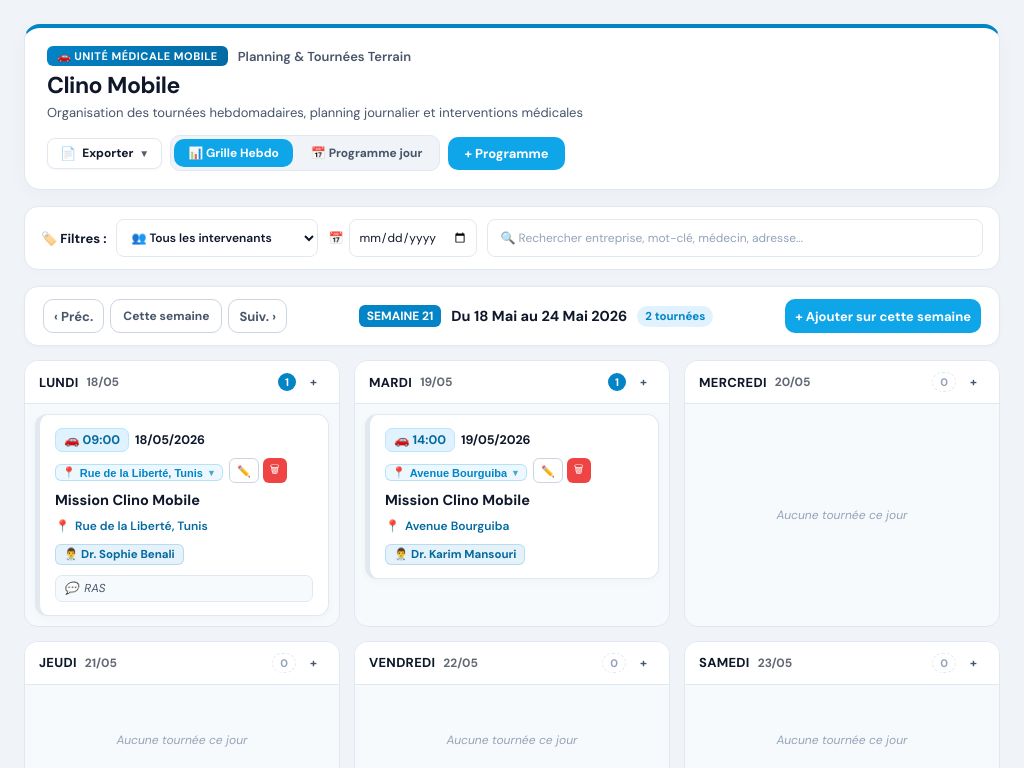
Test: Clino Mobile page › opens modal on + Programme click
This screenshot has width=1024, height=768.
Click the button "+ Programme": [507, 153] box [448,136,565,170]
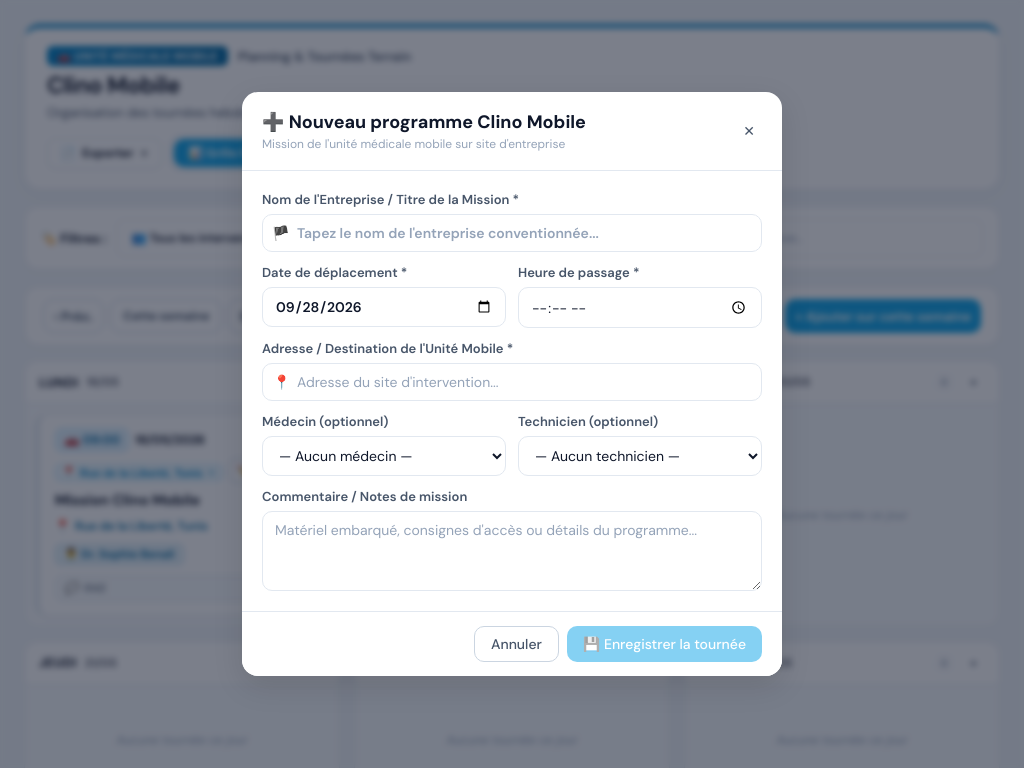
Expected: the heading "➕ Nouveau programme Clino Mobile" is shown, [262,110,586,134]
